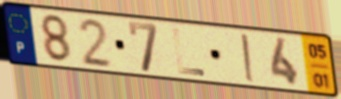2: (76, 17, 113, 70)
4: (269, 35, 301, 88)
7: (125, 20, 161, 74)
8: (37, 13, 73, 64)
I: (239, 32, 258, 84)
L: (170, 26, 208, 78)
